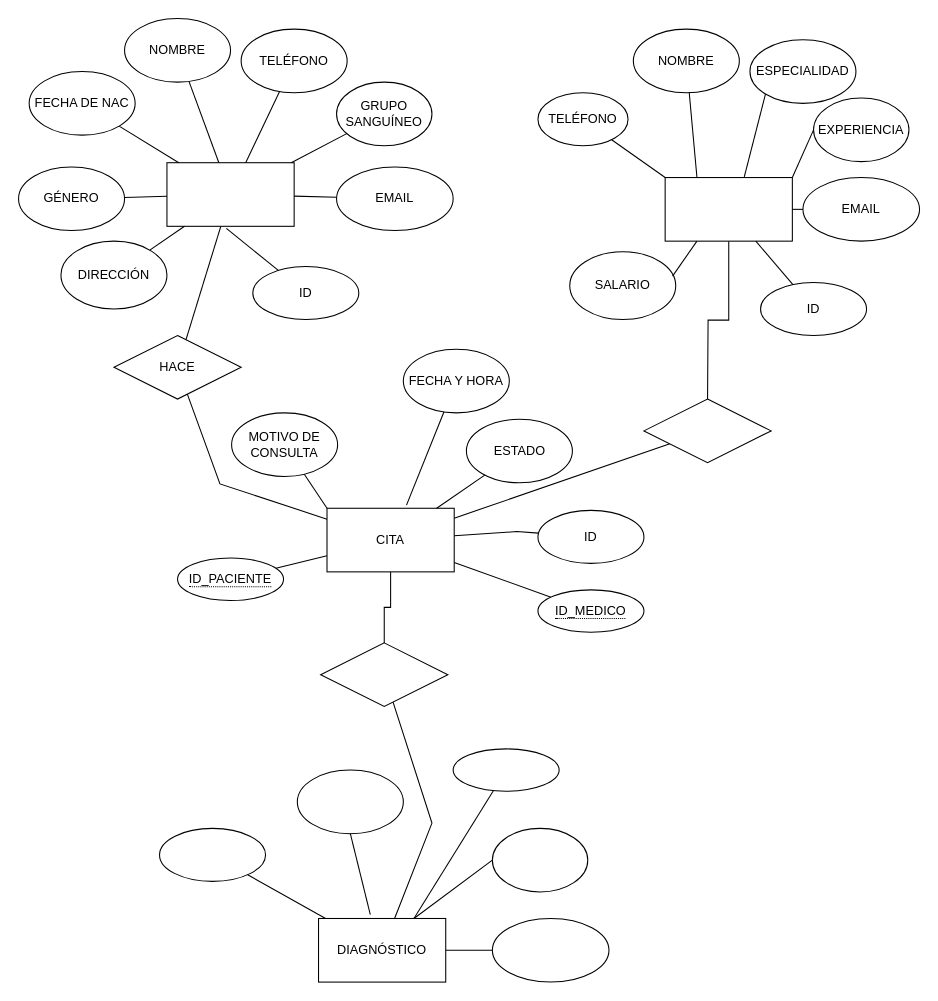
Some shapes in this 938 by 1001 pixel diagram are drawn without their labels. The centre of each missing label's shape, as x and y in pixels:
DESCRIPCIÓN: the point at 349,801
GENERA: the point at 384,674
ID_CITA: the point at 505,769
INDICACIÓNES MED: the point at 539,859
MÉDICO: the point at 728,208
PACIENTE: the point at 230,194
RECETA: the point at 550,949
Recibe: the point at 707,430
TRATAMIENTO: the point at 212,854
